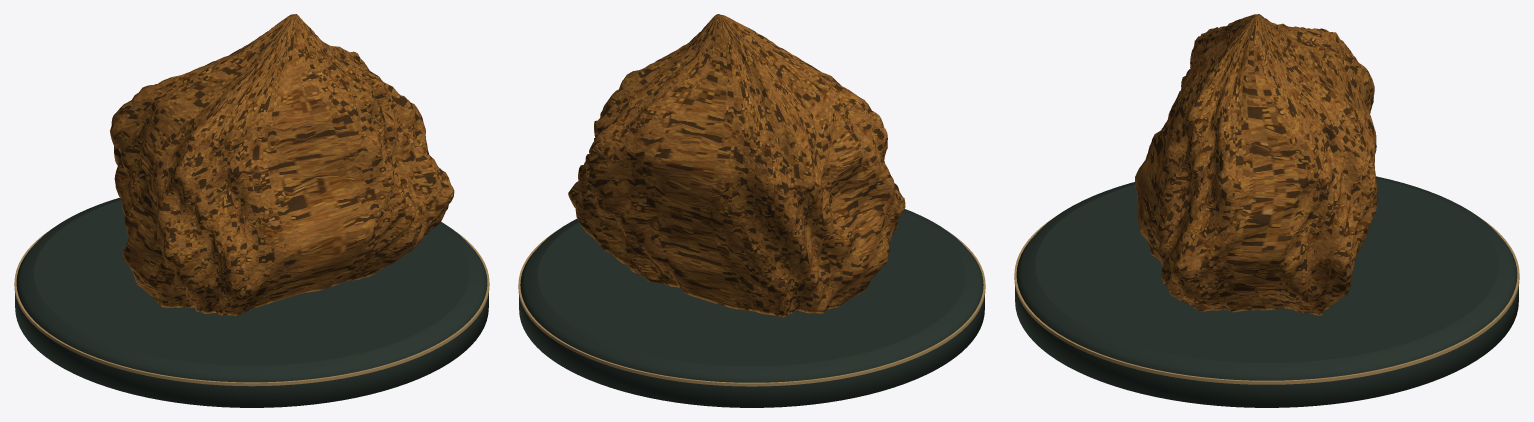
Rendered from lingstone-concept-07-v191-8dd855d449e4.glb.
The picture shows the model from 3 angles, left to right: view 1: azimuth 30°, elevation 25°; view 2: azimuth 150°, elevation 25°; view 3: azimuth 270°, elevation 25°; orthographic projection. The views are drawn at different scales.
Visible parts, largest first — view 1: XY-CONCEPT-007 concept stone, Centered beveled display plinth, Champagne gold edge; view 2: XY-CONCEPT-007 concept stone, Centered beveled display plinth, Champagne gold edge; view 3: Centered beveled display plinth, XY-CONCEPT-007 concept stone, Champagne gold edge.
Boxes of the visible parts, left/top/right/bottom form: XY-CONCEPT-007 concept stone: left=110, top=14, right=454, bottom=315; Centered beveled display plinth: left=15, top=197, right=488, bottom=407; Champagne gold edge: left=14, top=230, right=489, bottom=386; XY-CONCEPT-007 concept stone: left=568, top=14, right=905, bottom=317; Centered beveled display plinth: left=519, top=209, right=984, bottom=407; Champagne gold edge: left=518, top=233, right=985, bottom=386; Centered beveled display plinth: left=1015, top=176, right=1518, bottom=407; XY-CONCEPT-007 concept stone: left=1135, top=14, right=1377, bottom=315; Champagne gold edge: left=1014, top=218, right=1519, bottom=384.
Size of the model in its own units: 2.2 by 1.49 by 2.2.
Materials: 3 (1 with a texture image).
